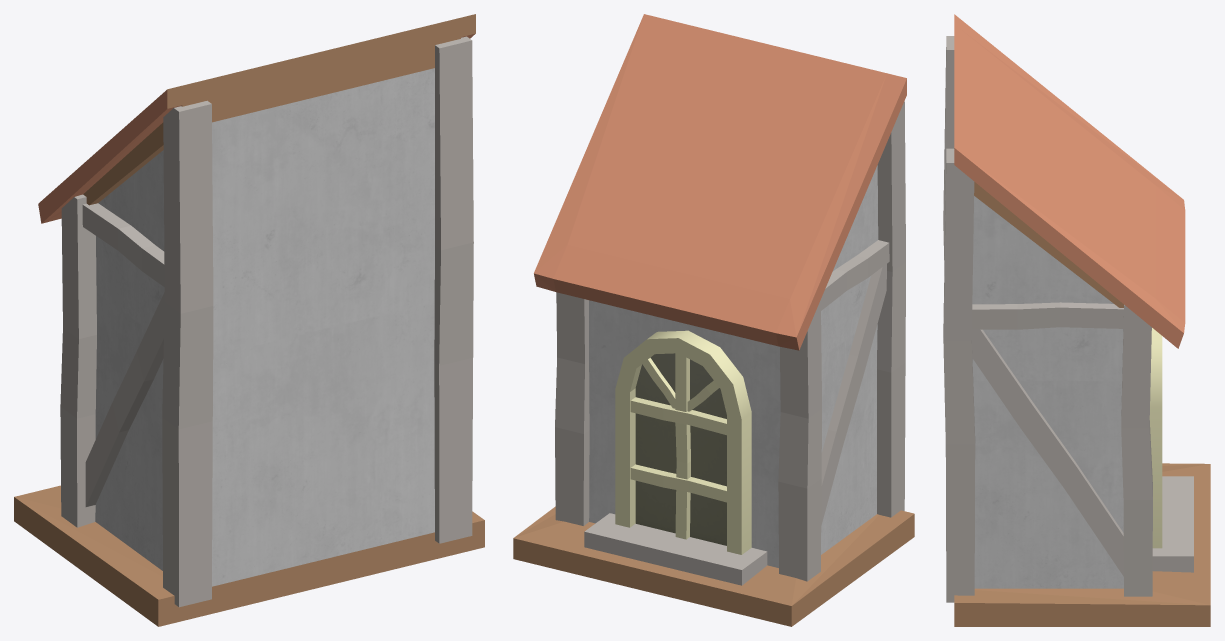
Rendered from BuildingWindow_C_01.fbx.
3 views of the same model, side by side, from view 1: azimuth 30°, elevation 25°; view 2: azimuth 150°, elevation 25°; view 3: azimuth 270°, elevation 25° (orthographic). The views are drawn at different scales.
Parts seen in each view (by area): view 1: BuildingWindow_C_01; view 2: BuildingWindow_C_01; view 3: BuildingWindow_C_01.
Boxes of the visible parts, box(x1,y1,x2,y2) form: BuildingWindow_C_01: box(14, 14, 484, 626); BuildingWindow_C_01: box(513, 14, 914, 626); BuildingWindow_C_01: box(943, 14, 1210, 626).
Bounding box in the file's own units: 214 × 336 × 171.
